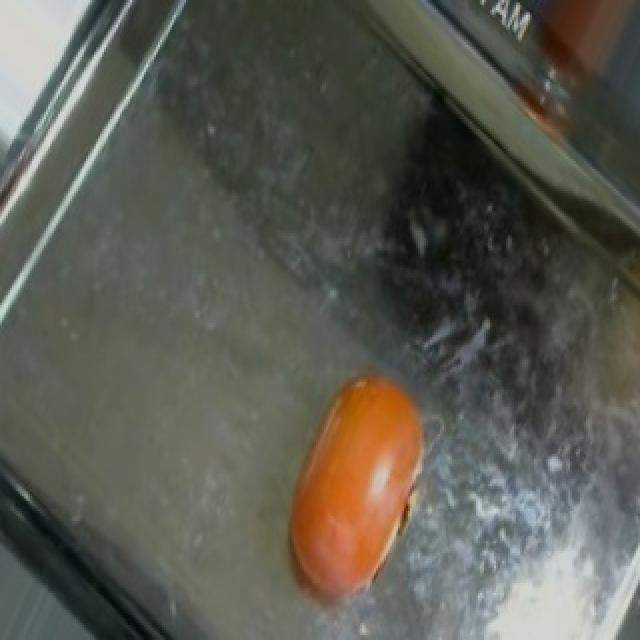Fruit: (268, 355, 448, 620)
